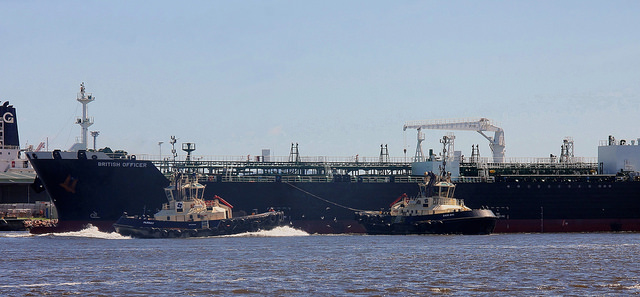tanker: (33, 80, 637, 241)
tug_boat: (106, 162, 286, 240), (356, 164, 516, 234)
